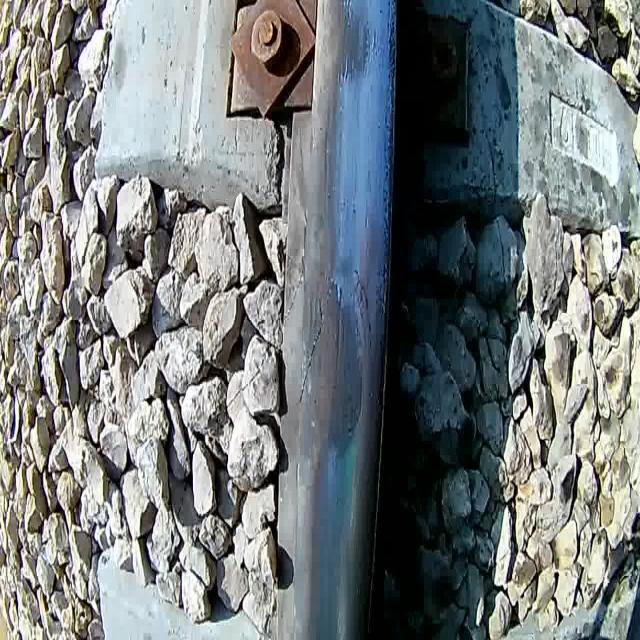Cracks: (294, 287, 329, 409), (347, 260, 378, 358), (367, 14, 381, 79)
Flakings: (377, 1, 402, 384)
Squats: (304, 253, 369, 472), (322, 4, 383, 91)
